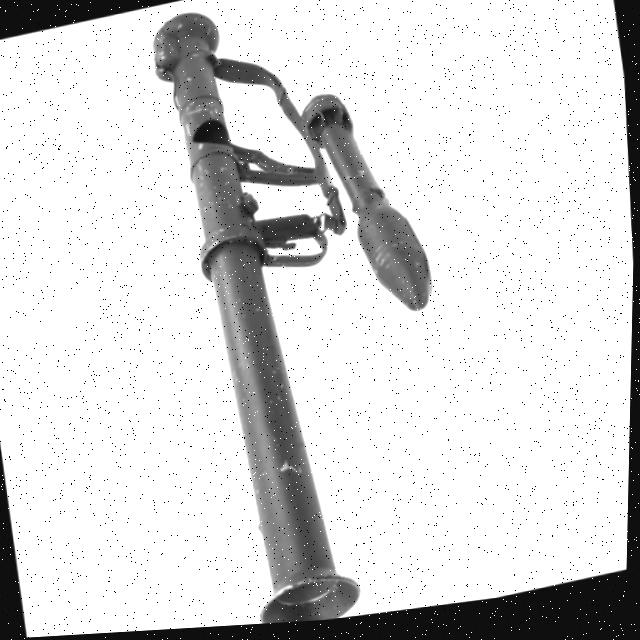rocket: (136, 0, 471, 633)
